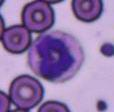N: (27, 31, 84, 82)
